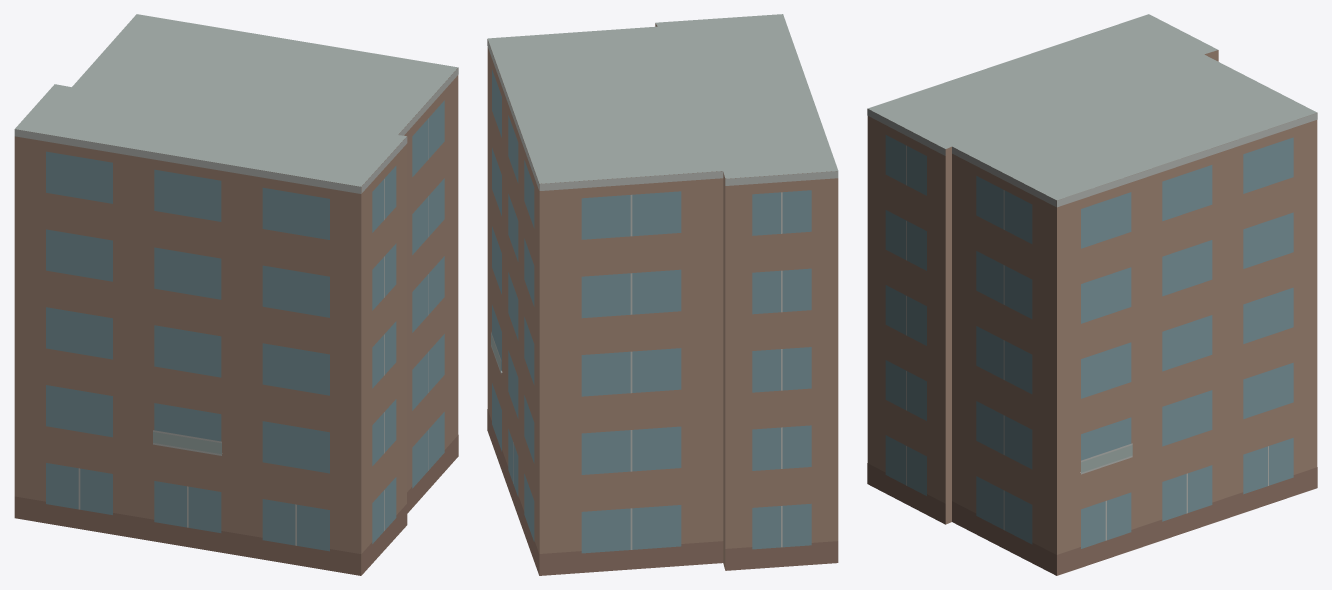
File: survey-upis-32991049.glb
The picture shows the model from 3 angles, left to right: view 1: azimuth 30°, elevation 25°; view 2: azimuth 150°, elevation 25°; view 3: azimuth 270°, elevation 25°; orthographic projection. The views are drawn at different scales.
Parts seen in each view (by area): view 1: survey-upis-32991049.tmp; view 2: survey-upis-32991049.tmp; view 3: survey-upis-32991049.tmp.
Boxes of the visible parts, <box> form: survey-upis-32991049.tmp: <box>14,14,458,575</box>; survey-upis-32991049.tmp: <box>487,14,838,575</box>; survey-upis-32991049.tmp: <box>867,14,1317,575</box>.
Bounding box in the file's own units: 13.96 × 13.1 × 14.24.
